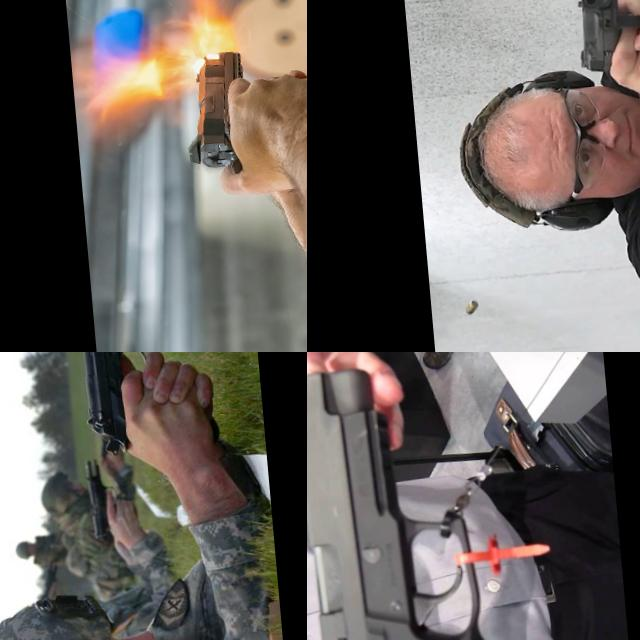handgun: (307, 352, 640, 640), (175, 44, 255, 184), (66, 352, 158, 460), (572, 0, 640, 75), (83, 455, 118, 540)
